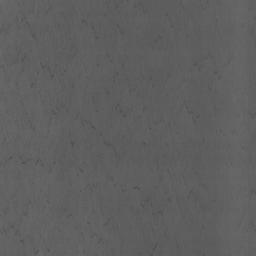Silk spot: (0, 0, 256, 256), (152, 0, 208, 49), (248, 8, 256, 48), (248, 111, 256, 119)
